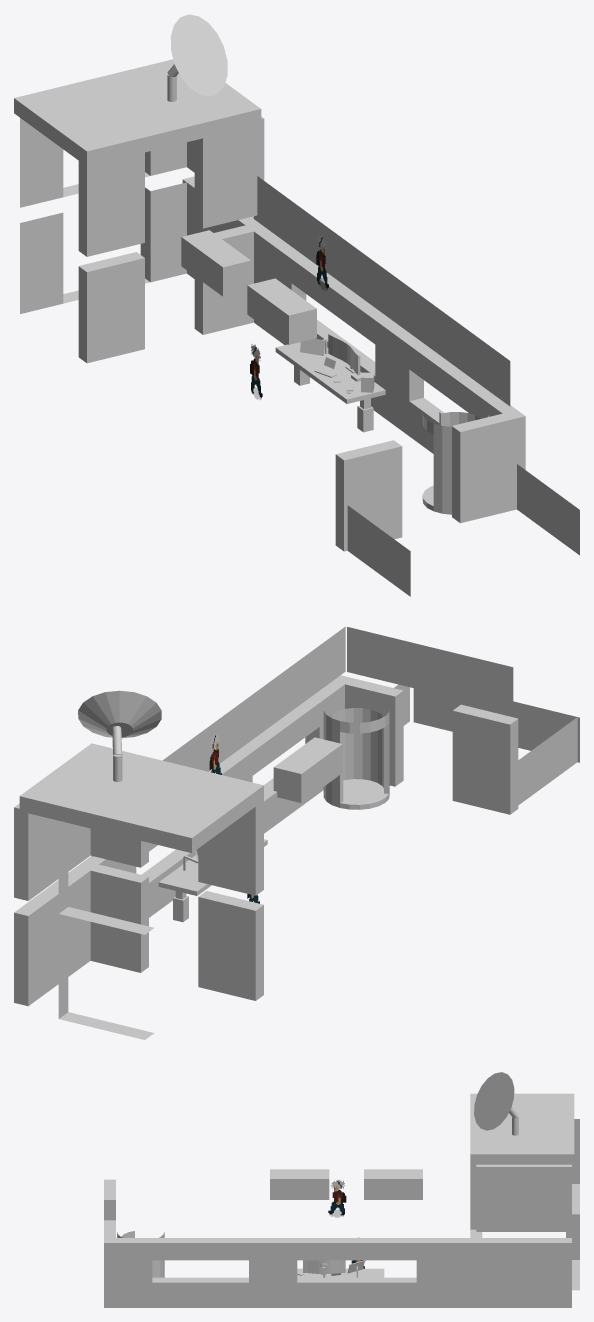
File: website_building.glb
The picture shows the model from 3 angles, top to bottom: view 1: azimuth 30°, elevation 25°; view 2: azimuth 150°, elevation 25°; view 3: azimuth 270°, elevation 25°; orthographic projection. The views are drawn at different scales.
Parts seen in each view (by area): view 1: Cube.001, Cube.015, Plane.001, Cube.005, Cube.003, Cube.012, Cube.011, Cube, Cube.002, WorkDesk, Cube.014, Cone (+7 smaller); view 2: Cube.015, Plane, Plane.001, Cube.001, Cube.006, Cube.002, Cube.003, Teleporter, Cube.004, Cube.010, Cube.012, Plane.002 (+8 smaller); view 3: Cube.001, Cube.006, Cube.010, Cube.015, Cube.013, Cube.009, Cone, WorkDesk, Cube.014, Cube.005, Cube.002, walk_spride_sheet.001 (+2 smaller).
Part boxes in pixels (bbox=[...]): Cube.001: bbox=[251, 225, 525, 510]; Cube.015: bbox=[14, 59, 261, 166]; Plane.001: bbox=[253, 176, 510, 406]; Cube.005: bbox=[20, 182, 186, 313]; Cube.003: bbox=[78, 252, 144, 363]; Cube.012: bbox=[78, 151, 144, 256]; Cube.011: bbox=[194, 123, 261, 228]; Cube: bbox=[452, 412, 517, 523]; Cube.002: bbox=[335, 440, 402, 551]; WorkDesk: bbox=[275, 333, 385, 432]; Cube.014: bbox=[20, 118, 186, 207]; Cone: bbox=[170, 14, 227, 96]; Cube.015: bbox=[19, 743, 263, 852]; Plane: bbox=[347, 627, 513, 712]; Plane.001: bbox=[91, 626, 345, 856]; Cube.001: bbox=[81, 675, 352, 917]; Cube.006: bbox=[14, 864, 90, 1006]; Cube.002: bbox=[452, 704, 518, 814]; Cube.003: bbox=[198, 891, 263, 1000]; Teleporter: bbox=[323, 708, 389, 809]; Cube.004: bbox=[83, 863, 148, 972]; Cube.010: bbox=[14, 803, 90, 900]; Cube.012: bbox=[198, 800, 263, 895]; Plane.002: bbox=[413, 688, 579, 762]; Cube.001: bbox=[104, 1238, 476, 1307]; Cube.006: bbox=[476, 1238, 571, 1307]; Cube.010: bbox=[476, 1164, 571, 1231]; Cube.015: bbox=[470, 1093, 574, 1165]; Cube.013: bbox=[270, 1169, 329, 1199]; Cube.009: bbox=[364, 1169, 422, 1199]; Cone: bbox=[474, 1072, 514, 1130]; WorkDesk: bbox=[297, 1260, 384, 1277]; Cube.014: bbox=[572, 1119, 579, 1214]; Cube.005: bbox=[566, 1214, 579, 1290]; Cube.002: bbox=[104, 1179, 115, 1220]; walk_spride_sheet.001: bbox=[328, 1179, 346, 1217].
Size of the model in its own units: 6.25 by 10.43 by 23.69.
Materials: 2 (2 with a texture image).
